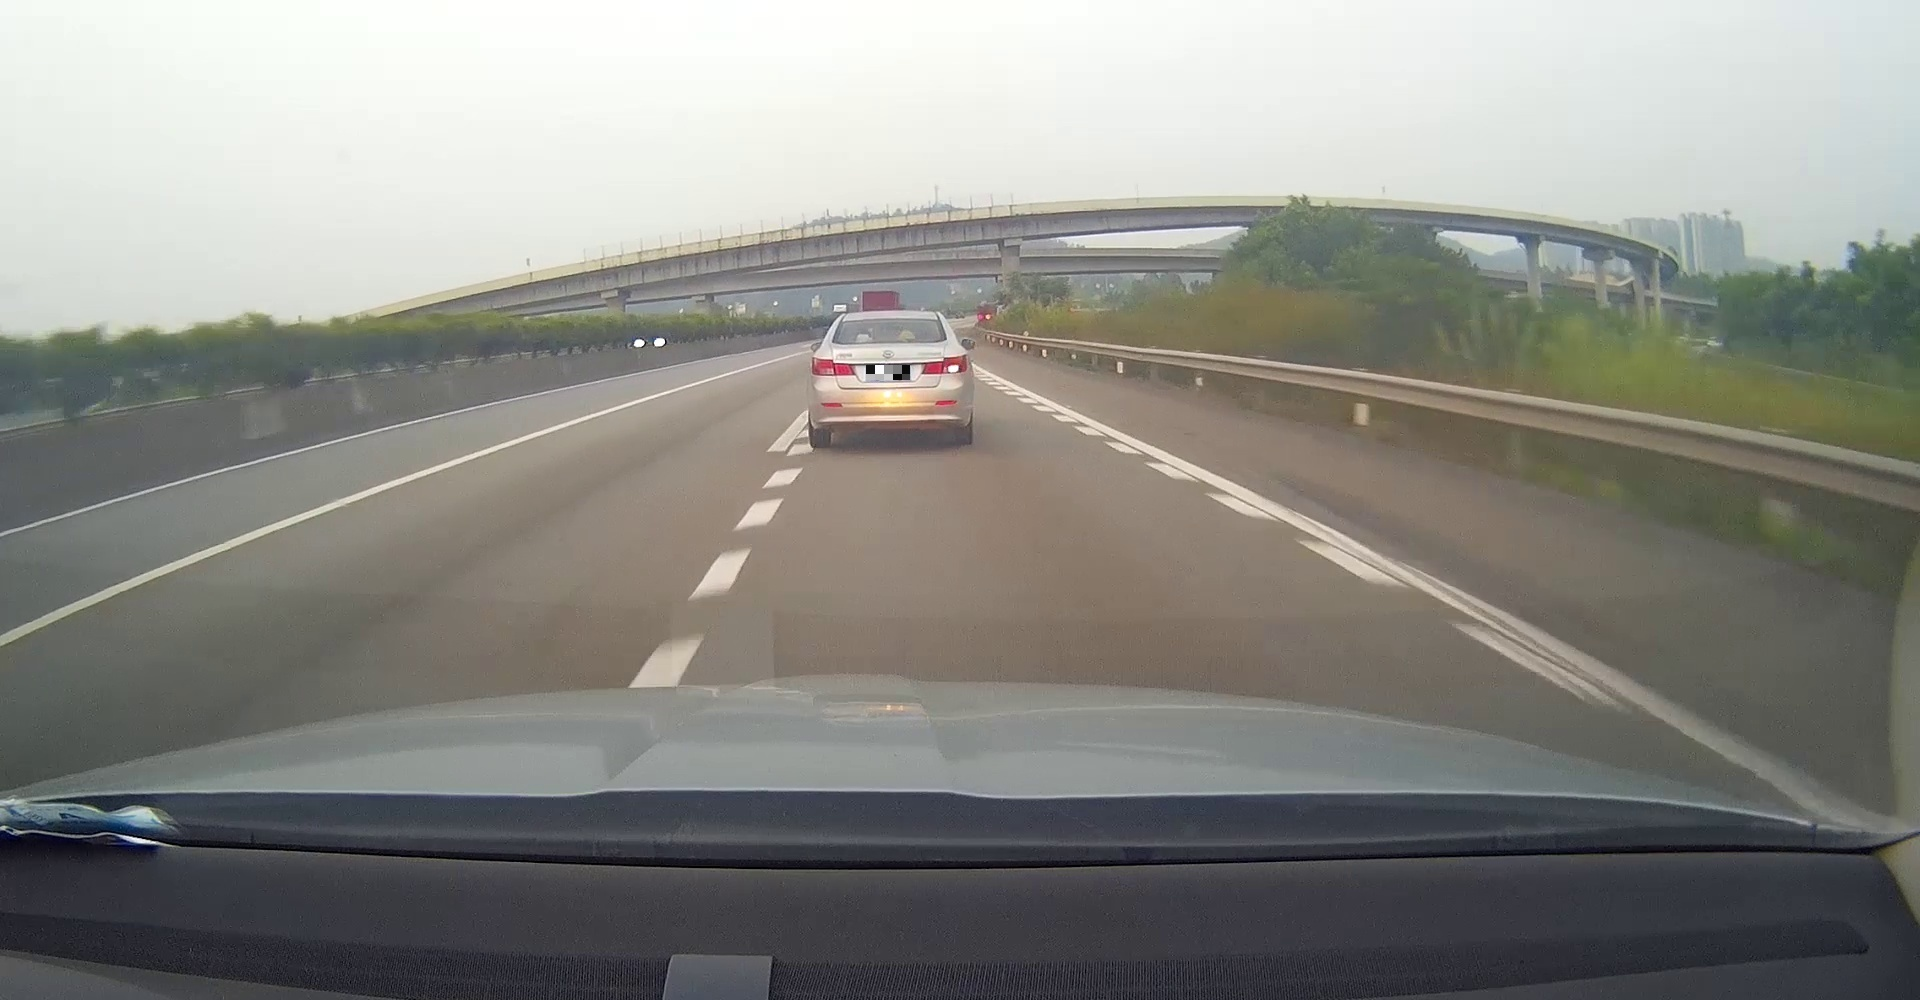L_light: (811, 357, 855, 377)
R_light: (922, 353, 968, 376)
T_light: (875, 338, 895, 343)
day-right: (808, 310, 974, 447)
plate_1: (866, 365, 910, 379)
